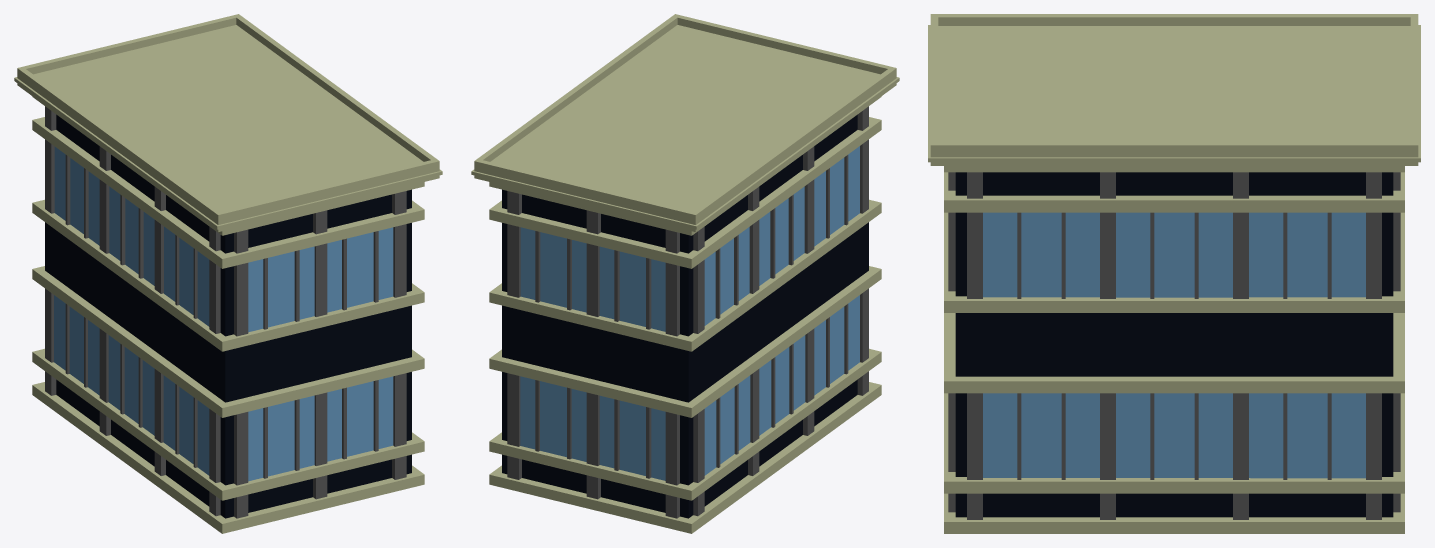
File: Building_B.fbx
3 views of the same model, side by side, from view 1: azimuth 30°, elevation 25°; view 2: azimuth 150°, elevation 25°; view 3: azimuth 270°, elevation 25° (orthographic). The views are drawn at different scales.
Visible parts, largest first — view 1: Building_B; view 2: Building_B; view 3: Building_B.
Boxes of the visible parts, x1=… form: Building_B: x1=14, y1=14, x2=442, y2=533; Building_B: x1=471, y1=14, x2=899, y2=533; Building_B: x1=928, y1=14, x2=1420, y2=533.
Bounding box in the file's own units: 141 × 194 × 220.
